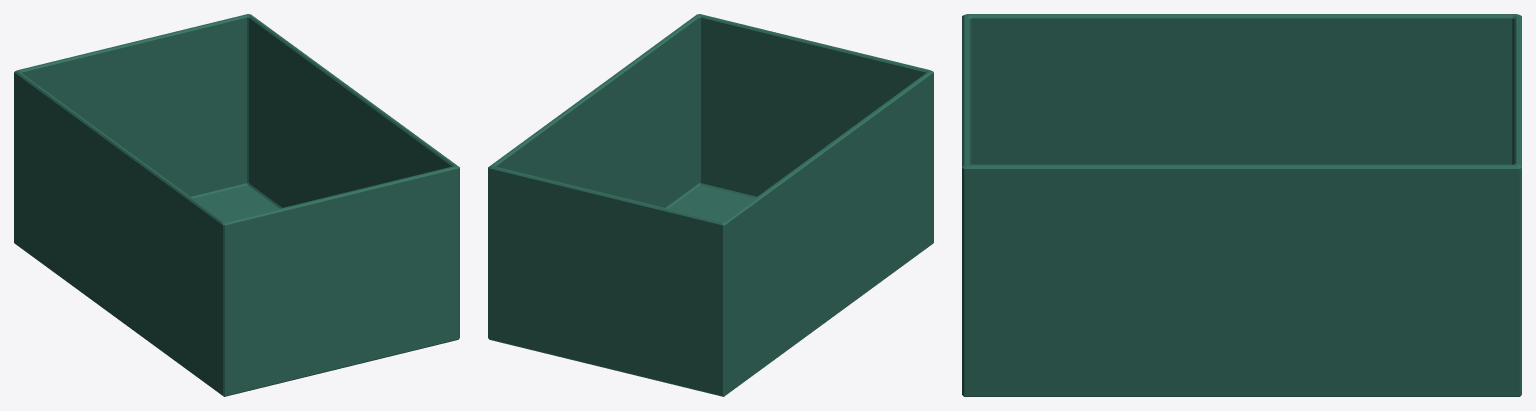
File: DecorativeBox2.glb
3 renders of one model, left to right at view 1: azimuth 30°, elevation 25°; view 2: azimuth 150°, elevation 25°; view 3: azimuth 270°, elevation 25°, orthographic. The views are drawn at different scales.
Size of the model in its own units: 0.2073 by 0.145 by 0.3187.
